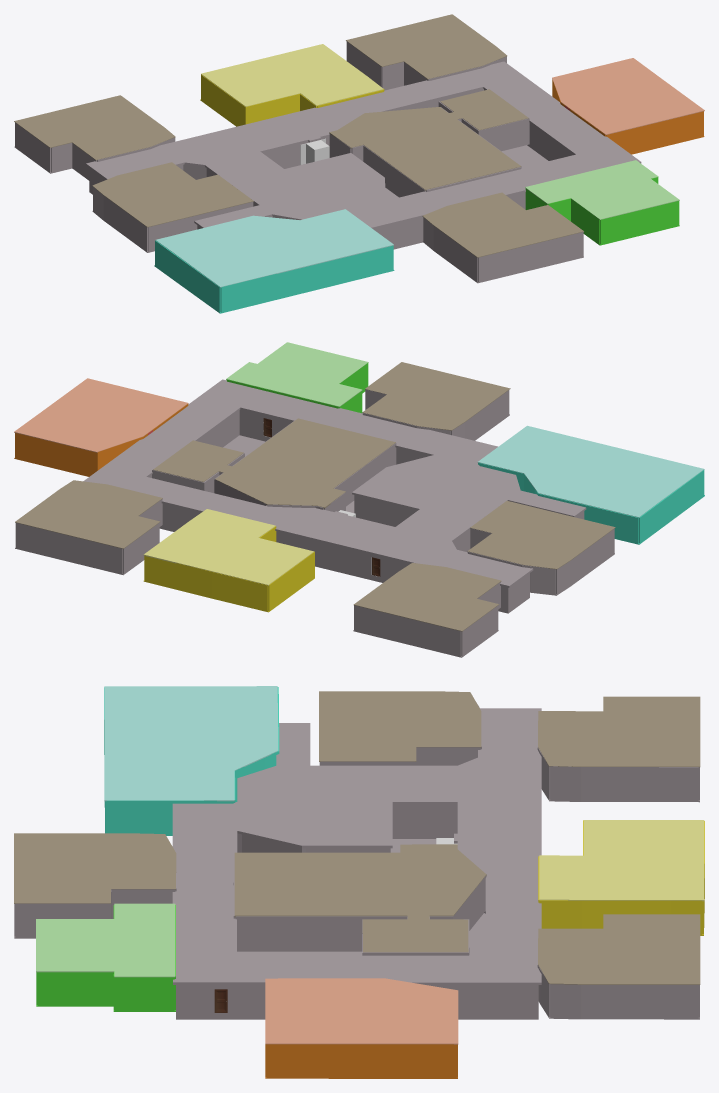
The model's file is Greybox_MAGIC_V3_Material.fbx.
The picture shows the model from 3 angles, top to bottom: view 1: azimuth 30°, elevation 25°; view 2: azimuth 150°, elevation 25°; view 3: azimuth 270°, elevation 25°; orthographic projection. The views are drawn at different scales.
Parts seen in each view (by area): view 1: Floor Celling, Cellings Room 1, Cellings Room 5, Cellings Room 2, Cellings Room 3, Room 5, Cellings Room 9, Cellings Room 6, Cellings Room 7, Cellings Room 8, Cellings Room 4, Floors (+8 smaller); view 2: Floor Celling, Cellings Room 1, Cellings Room 5, Floors, Cellings Room 2, Cellings Room 3, Cellings Room 7, Cellings Room 8, Cellings Room 9, Cellings Room 6, Cellings Room 4, Room 3 (+8 smaller); view 3: Floor Celling, Cellings Room 1, Cellings Room 5, Cellings Room 2, Cellings Room 3, Floors, Cellings Room 8, Cellings Room 6, Cellings Room 9, Cellings Room 7, Cellings Room 4, Room 2 (+8 smaller).
Part boxes in pixels (x1,y1,x2,y2): Floor Celling: (86, 61, 641, 229); Cellings Room 1: (329, 89, 528, 190); Cellings Room 5: (155, 209, 393, 287); Cellings Room 2: (552, 58, 704, 134); Cellings Room 3: (201, 44, 383, 106); Room 5: (154, 240, 394, 313); Cellings Room 9: (422, 192, 583, 257); Cellings Room 6: (92, 162, 253, 227); Cellings Room 7: (14, 95, 175, 160); Cellings Room 8: (346, 14, 507, 79); Cellings Room 4: (525, 160, 679, 219); Floors: (89, 88, 573, 249); Floor Celling: (83, 379, 586, 587); Cellings Room 1: (153, 418, 395, 508); Cellings Room 5: (477, 425, 704, 517); Floors: (148, 409, 584, 613); Cellings Room 2: (14, 378, 188, 452); Cellings Room 3: (143, 509, 314, 585); Cellings Room 7: (353, 563, 501, 631); Cellings Room 8: (15, 480, 162, 548); Cellings Room 9: (362, 362, 510, 430); Cellings Room 6: (467, 501, 615, 569); Cellings Room 4: (226, 342, 368, 406); Room 3: (143, 526, 314, 612); Floor Celling: (172, 708, 541, 984); Cellings Room 1: (234, 844, 486, 952); Cellings Room 5: (104, 686, 278, 801); Cellings Room 2: (265, 978, 458, 1044); Cellings Room 3: (539, 820, 704, 901); Floors: (176, 804, 538, 1019); Cellings Room 8: (538, 914, 700, 984); Cellings Room 6: (319, 691, 481, 761); Cellings Room 9: (14, 833, 176, 903); Cellings Room 7: (538, 696, 700, 767); Cellings Room 4: (36, 903, 175, 977); Room 2: (265, 1044, 457, 1078).
Bounding box in the file's own units: 13078 × 710 × 10673.
71 materials, 1 textured.
